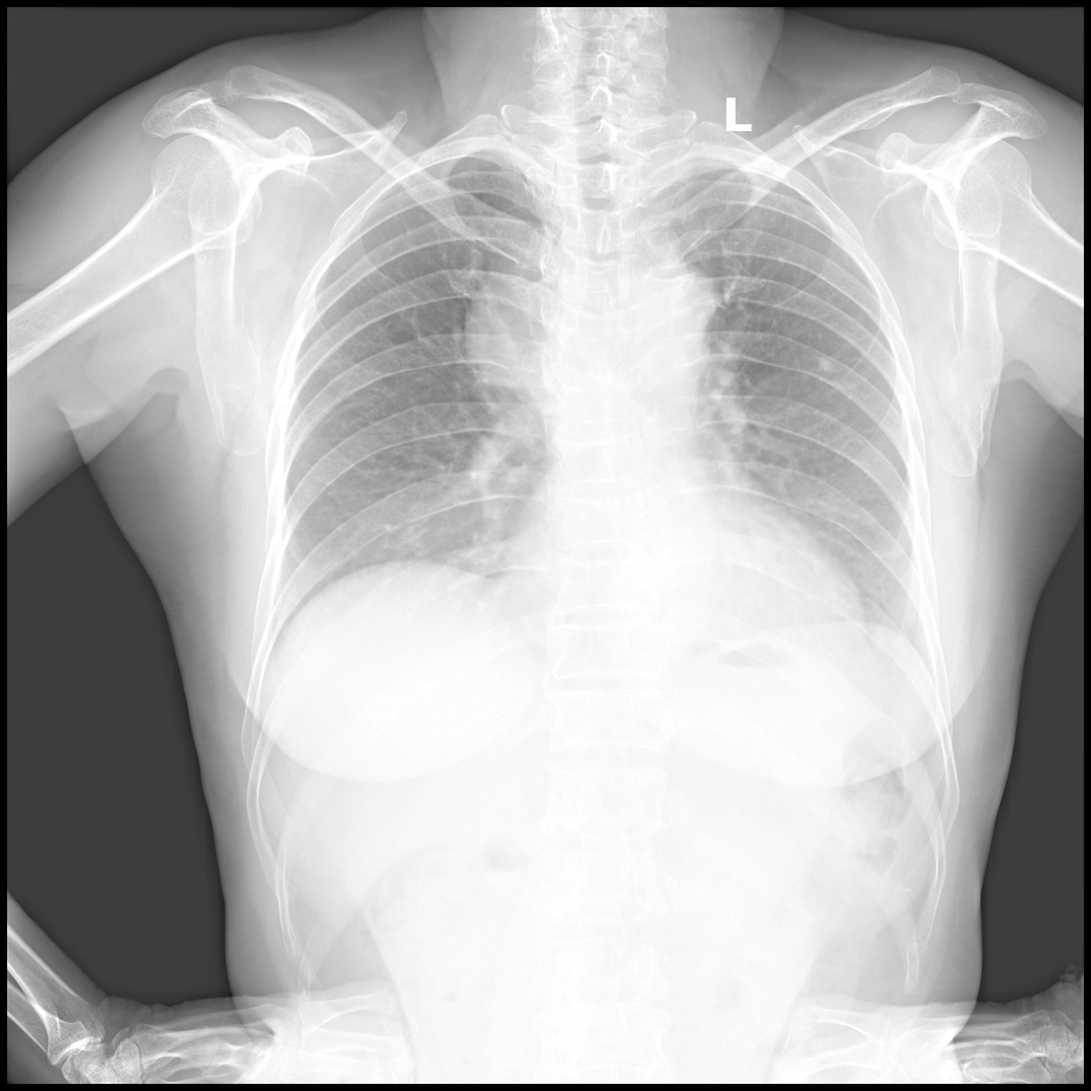Aortic enlargement: (617, 258, 719, 374)
